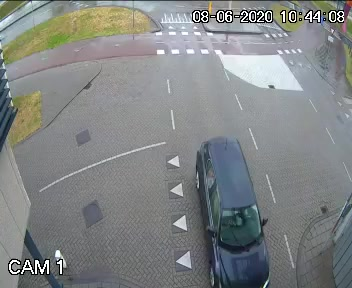car: (188, 129, 300, 288)
